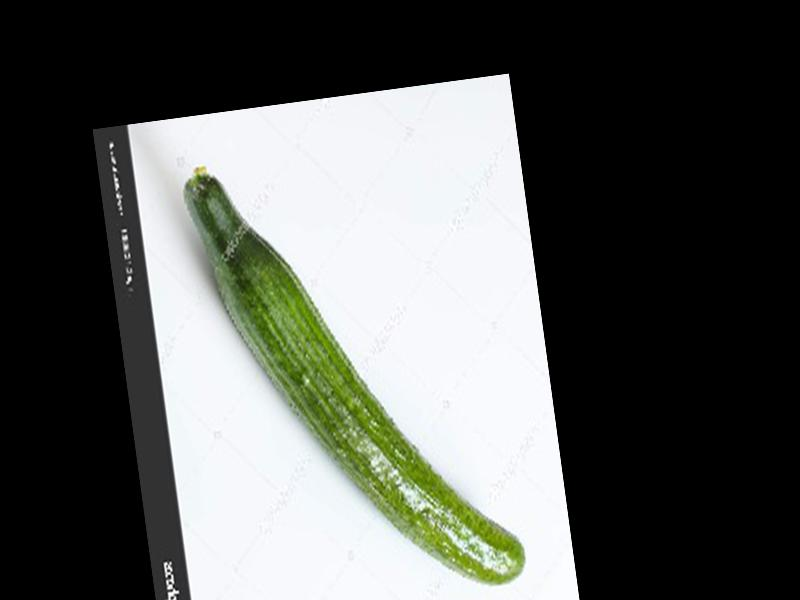Cucumber: (183, 131, 527, 600)
